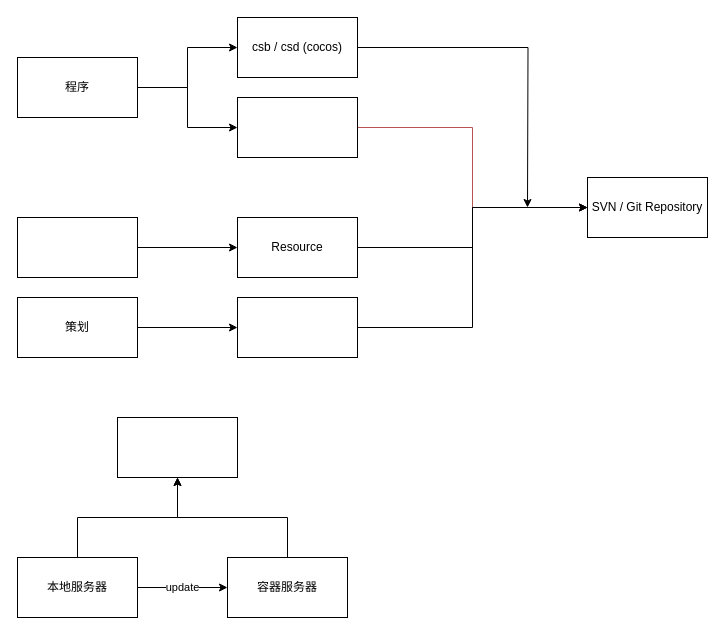
This 725x635 diagram has some shape labels left out. The centre of each missing label's shape, as x and y in pixels:
"Design (Excel)" belongs at point 297,327.
"Scripts" belongs at point 297,127.
"本地客户端" belongs at point 177,447.
"美术" belongs at point 77,247.
